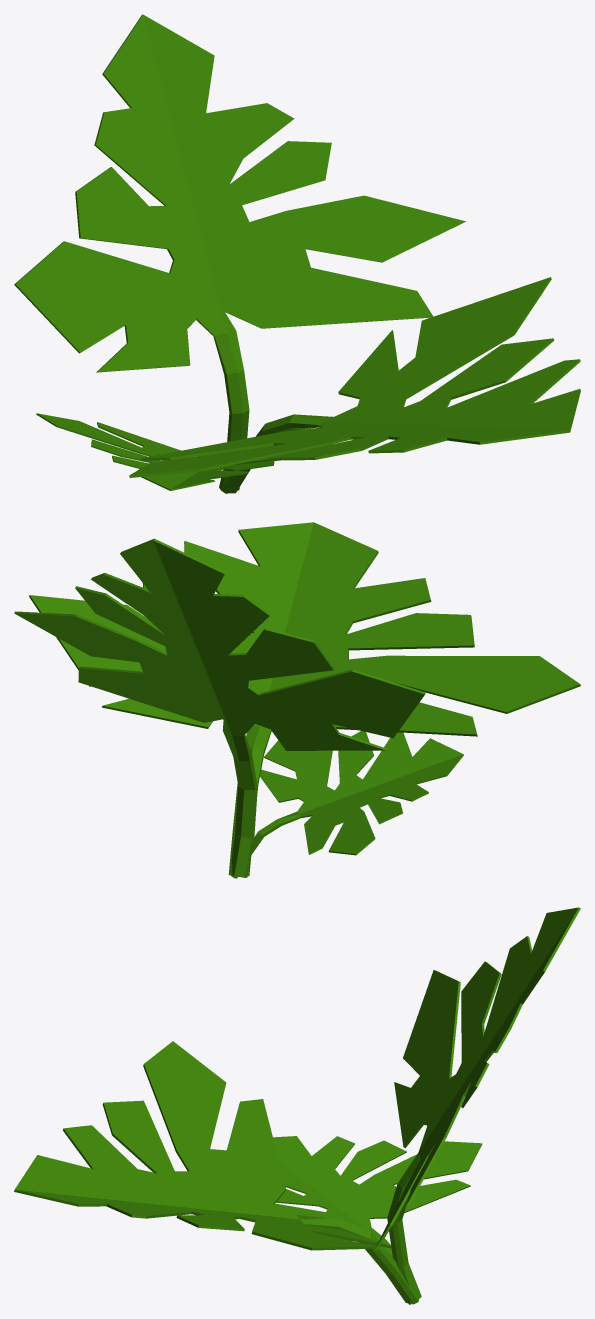
File: Plant_b_02.fbx
The picture shows the model from 3 angles, top to bottom: view 1: azimuth 30°, elevation 25°; view 2: azimuth 150°, elevation 25°; view 3: azimuth 270°, elevation 25°; orthographic projection. The views are drawn at different scales.
Parts seen in each view (by area): view 1: Plant_b_02_LOD0; view 2: Plant_b_02_LOD0; view 3: Plant_b_02_LOD0.
Part boxes in pixels (x1,y1,x2,y2): Plant_b_02_LOD0: (14, 14, 580, 493); Plant_b_02_LOD0: (14, 522, 580, 878); Plant_b_02_LOD0: (14, 907, 580, 1304).
Size of what is drawn, in the model's own units: 16 by 12.76 by 16.61.
